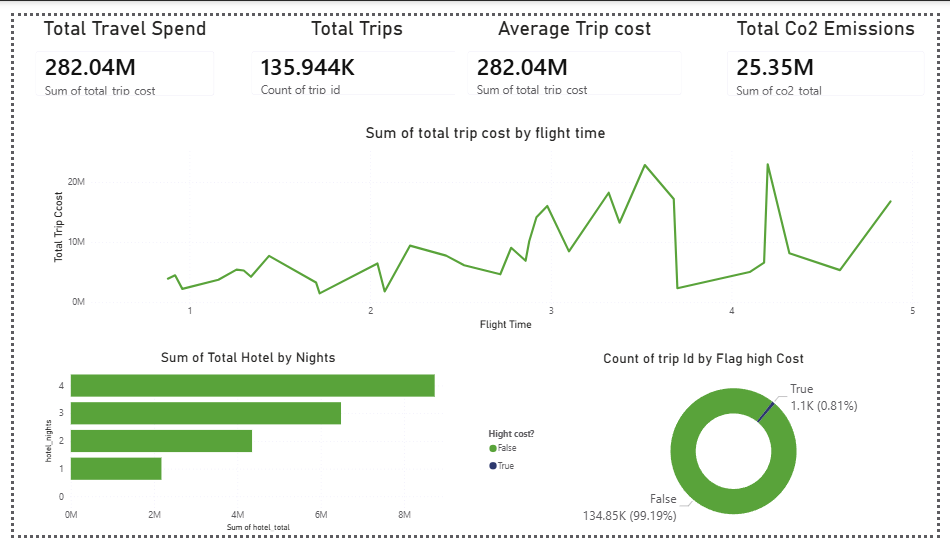

Layout of this report page (visuals, bound fields, positions):
{"tool":"powerbi","page":{"name":"Page 1","canvas":[1280,720],"ordinal":0},"visuals":[{"type":"cardVisual","title":"Total Travel Spend ","fields":{"Data":["Sum(clean_trips_enhanced.total_trip_cost)"]},"box":[12.5,0,282.5,127.5],"z":0},{"type":"cardVisual","title":"Total Trips ","fields":{"Data":["Count(clean_trips_enhanced.trip_id)"]},"box":[312.3,0,326.9,126.9],"z":1000},{"type":"cardVisual","title":"Average Trip cost","fields":{"Data":["Sum(clean_trips_enhanced.total_trip_cost)"]},"box":[611.6,0,331.8,126.9],"z":2000},{"type":"cardVisual","title":"Total Co2 Emissions","fields":{"Data":["Sum(clean_trips_enhanced.co2_total)"]},"box":[970.5,0,308.7,128.2],"z":3000},{"type":"lineChart","title":"Sum of total trip cost by flight time","fields":{"Category":["clean_trips_enhanced.flight_time"],"Y":["Sum(clean_trips_enhanced.total_trip_cost)"]},"box":[47.5,150,1212.5,290],"z":4000},{"type":"clusteredBarChart","title":"Sum of Total Hotel by Nights","fields":{"Category":["clean_trips_enhanced.hotel_nights"],"Y":["Sum(clean_trips_enhanced.hotel_total)"]},"box":[37.5,462.5,575,257.5],"z":5000},{"type":"donutChart","title":"Count of trip Id by Flag high Cost","fields":{"Category":["clean_trips_enhanced.flag_high_cost"],"Y":["Count(clean_trips_enhanced.trip_id)"]},"box":[653.3,463.3,606.7,256.7],"z":6000}]}

Visuals, with their boxes in screenshot pixels (x1, y1, x2, y2), scaled from the page's 1280x720 canvas onto the 950x550 screenshot:
"Total Travel Spend " cardVisual: left=9, top=0, right=219, bottom=97
"Total Trips " cardVisual: left=232, top=0, right=474, bottom=97
"Average Trip cost" cardVisual: left=454, top=0, right=700, bottom=97
"Total Co2 Emissions" cardVisual: left=720, top=0, right=949, bottom=98
"Sum of total trip cost by flight time" lineChart: left=35, top=115, right=935, bottom=336
"Sum of Total Hotel by Nights" clusteredBarChart: left=28, top=353, right=455, bottom=549
"Count of trip Id by Flag high Cost" donutChart: left=485, top=354, right=935, bottom=549
